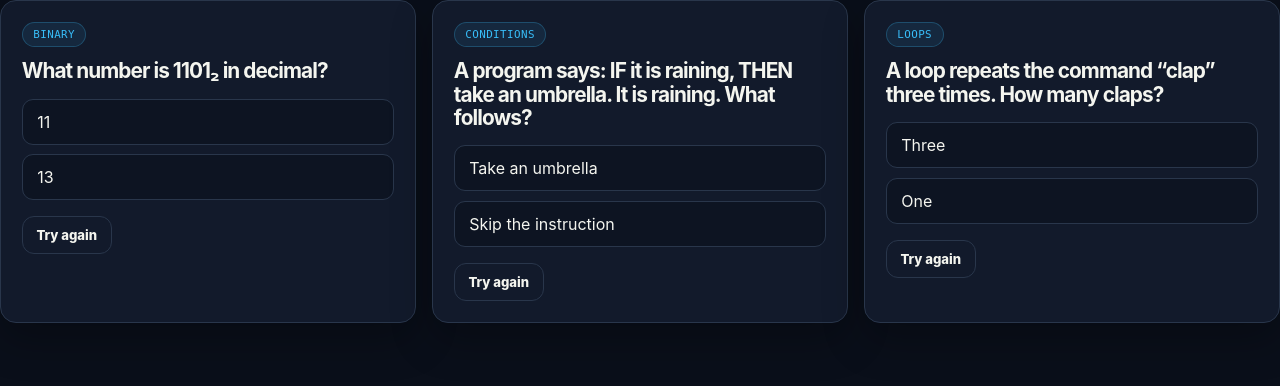
Test: CodingChallenges › shows correct feedback for the right option
This screenshot has width=1280, height=386.
Click the button "13": (45,177) [22,154,394,200]
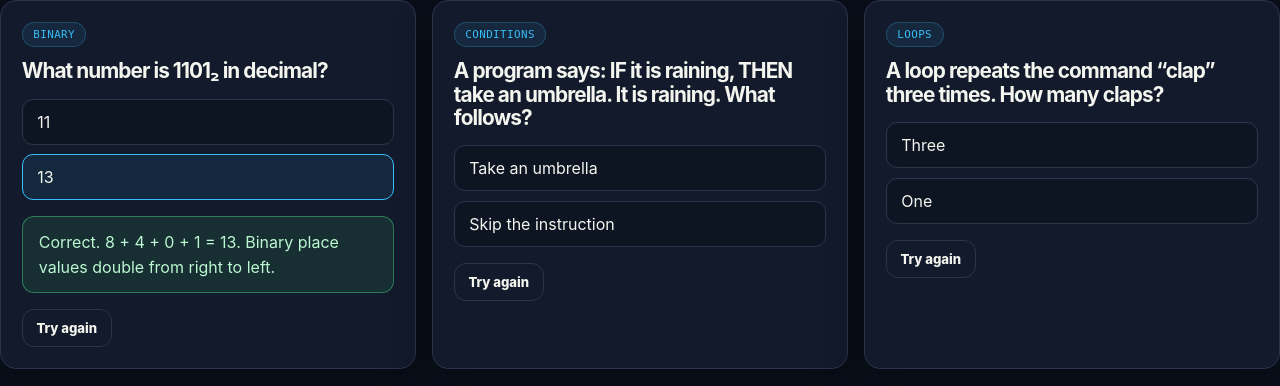
Now the message shows "Correct. 8 + 4 + 0 + 1 = 13", box [22,216,394,294]
